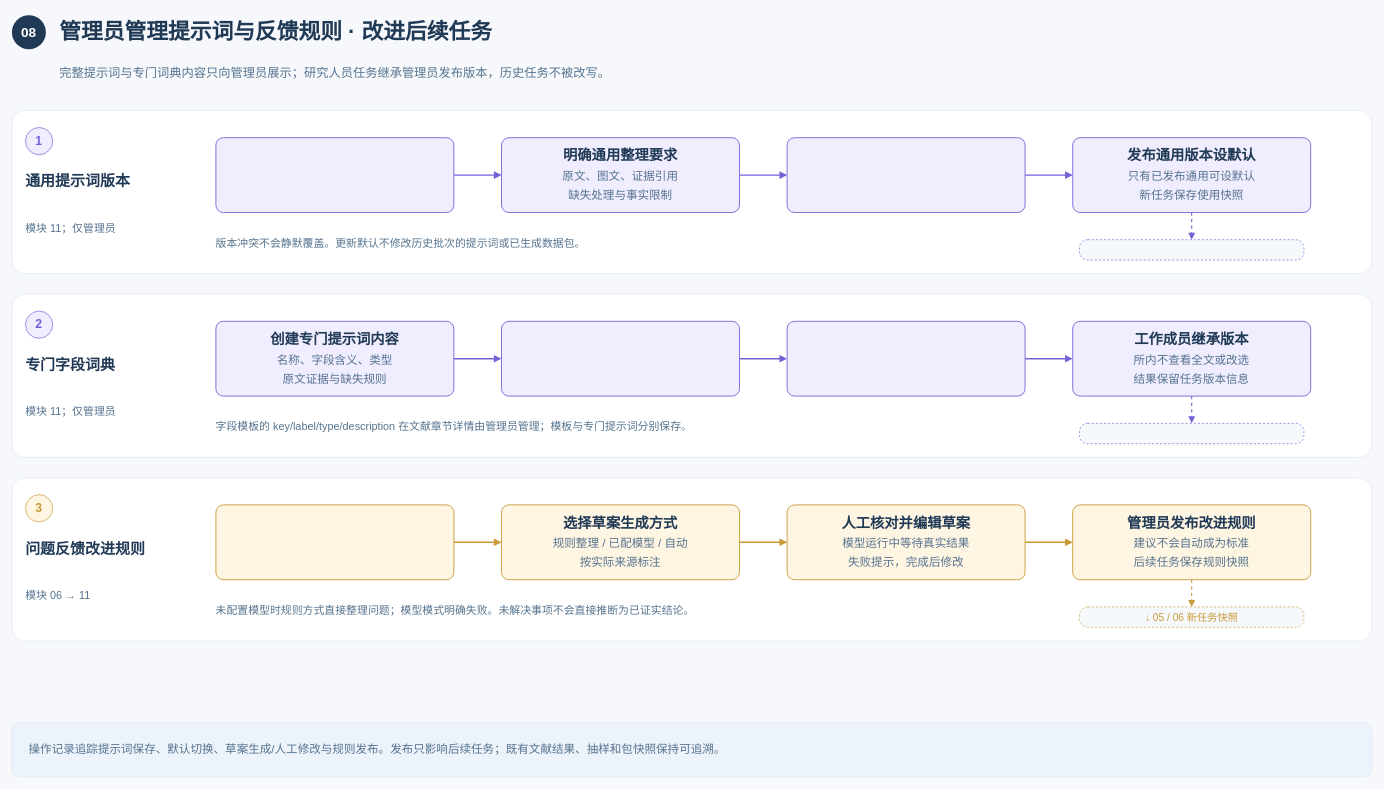
Some shapes in this 1384 by 789 pixel diagram are drawn without their labels. Here are the shapes that lost their labels. From the top down, the box of each, then its label:
(215, 137, 454, 213): 创建或基于现有新建 填写名称与完整内容 旧版保留不覆盖
(786, 137, 1025, 213): 保存草案或发布 草案暂不用于新任务 发布后可供任务使用
(1079, 239, 1304, 260): ↓ 05 / 06 后续实际任务
(501, 321, 740, 396): 审核后发布新版本 保留版本号与状态 未发布不可选用
(786, 321, 1025, 396): 管理员在批次中选择 默认或专门发布版本 明确实际任务提示词
(1079, 423, 1304, 444): ↓ 05 字段模板 / 06 批次
(215, 504, 454, 580): 收集实际抽检问题 选择批次或全部问题 没有问题不编造规则
